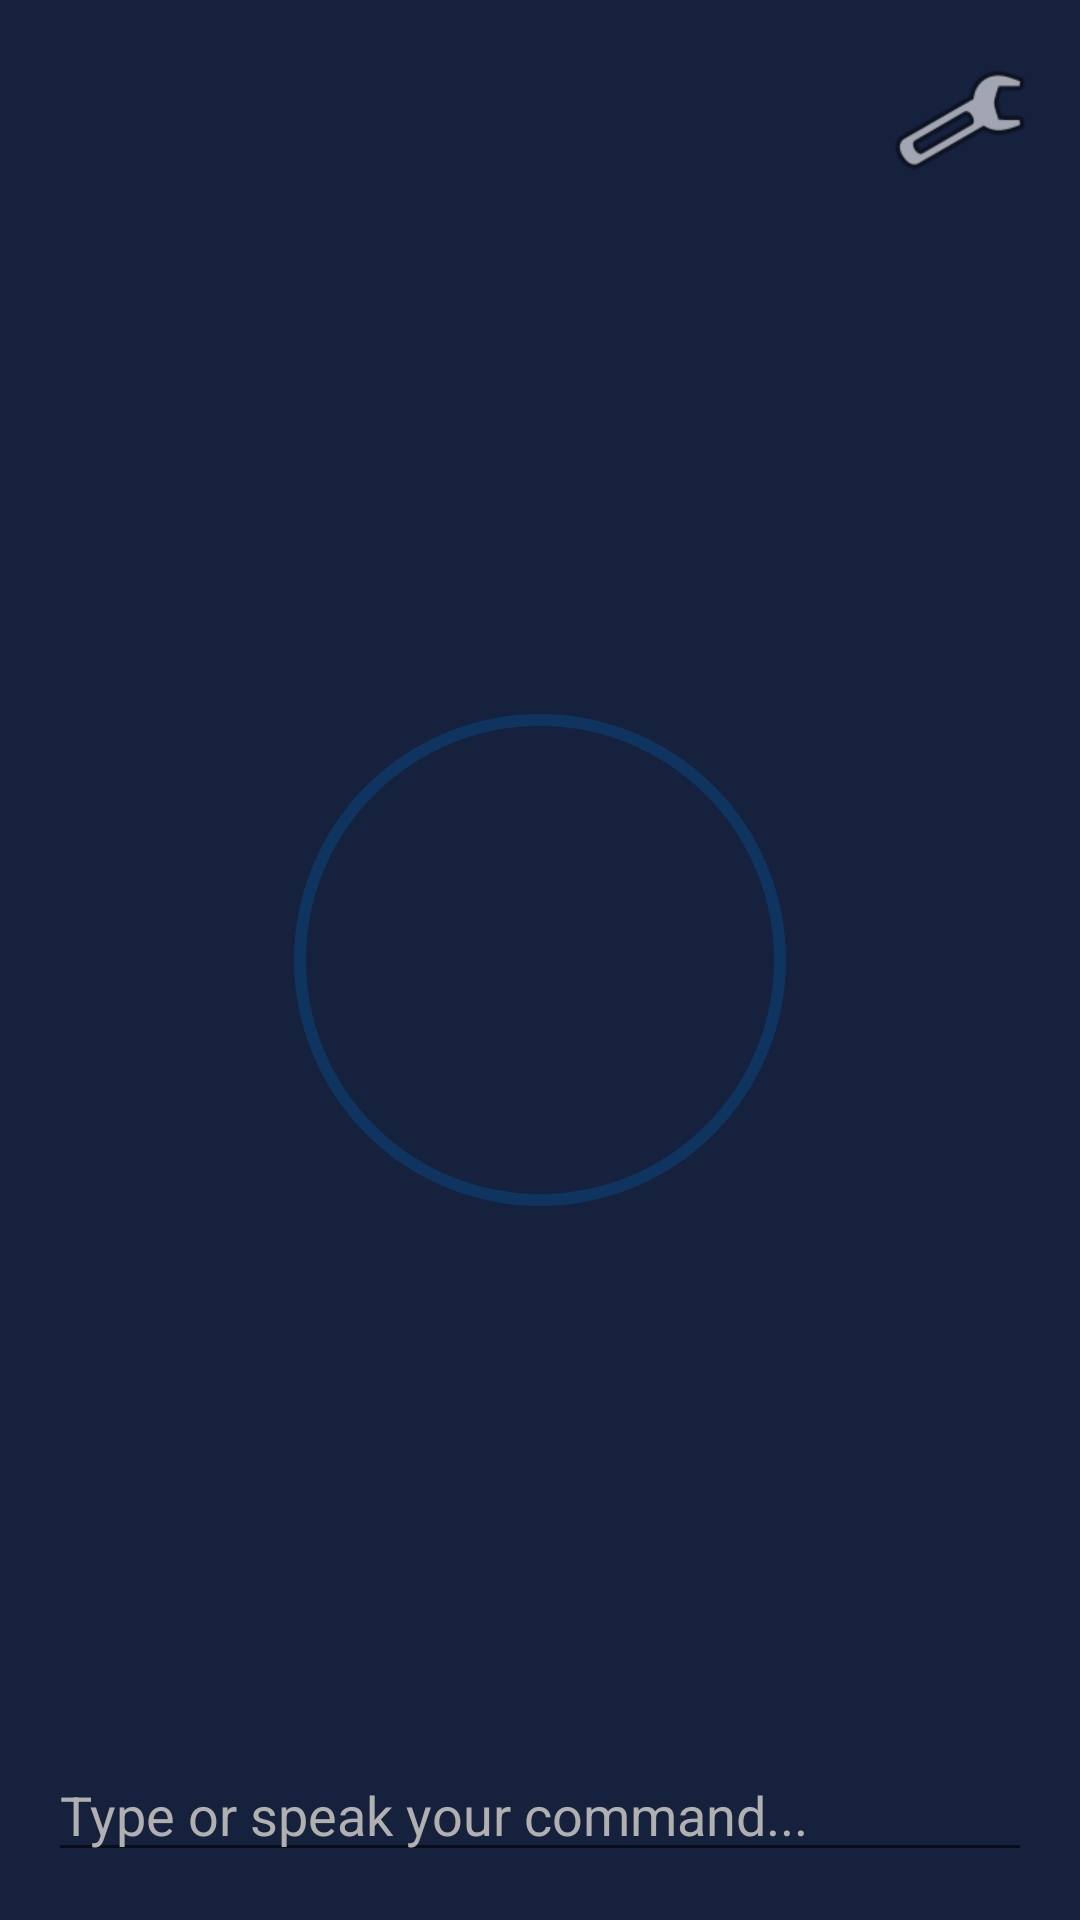

Screen size 1080 × 1920. Icon name, then its center in pixels as (x=x, y=y):
Settings: (x=959, y=120)
